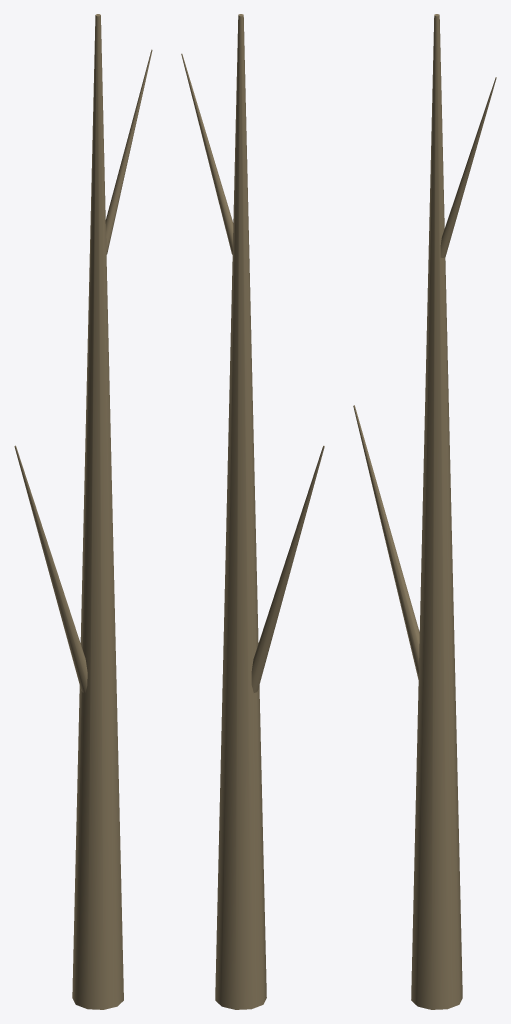
Rendered from Tronco_mediano_01.fbx.
The picture shows the model from 3 angles, left to right: view 1: azimuth 30°, elevation 25°; view 2: azimuth 150°, elevation 25°; view 3: azimuth 330°, elevation 25°; orthographic projection.
Visible parts, largest first — view 1: Tronco_mediano_02; view 2: Tronco_mediano_02; view 3: Tronco_mediano_02.
Boxes of the visible parts, <box> form: Tronco_mediano_02: <box>14,14,152,1009</box>; Tronco_mediano_02: <box>181,14,324,1009</box>; Tronco_mediano_02: <box>353,14,496,1009</box>.
Size of the model in its own units: 2.64 by 17.67 by 0.8039.
